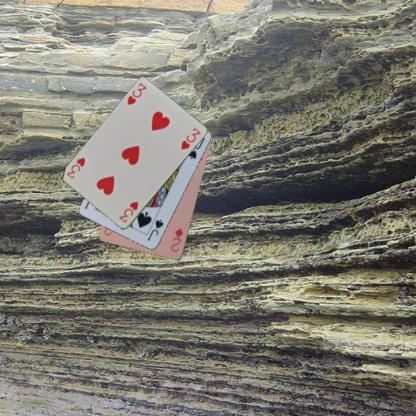2d: (168, 225, 185, 254)
3h: (125, 80, 148, 107), (117, 199, 140, 224)
Js: (144, 217, 165, 242)
